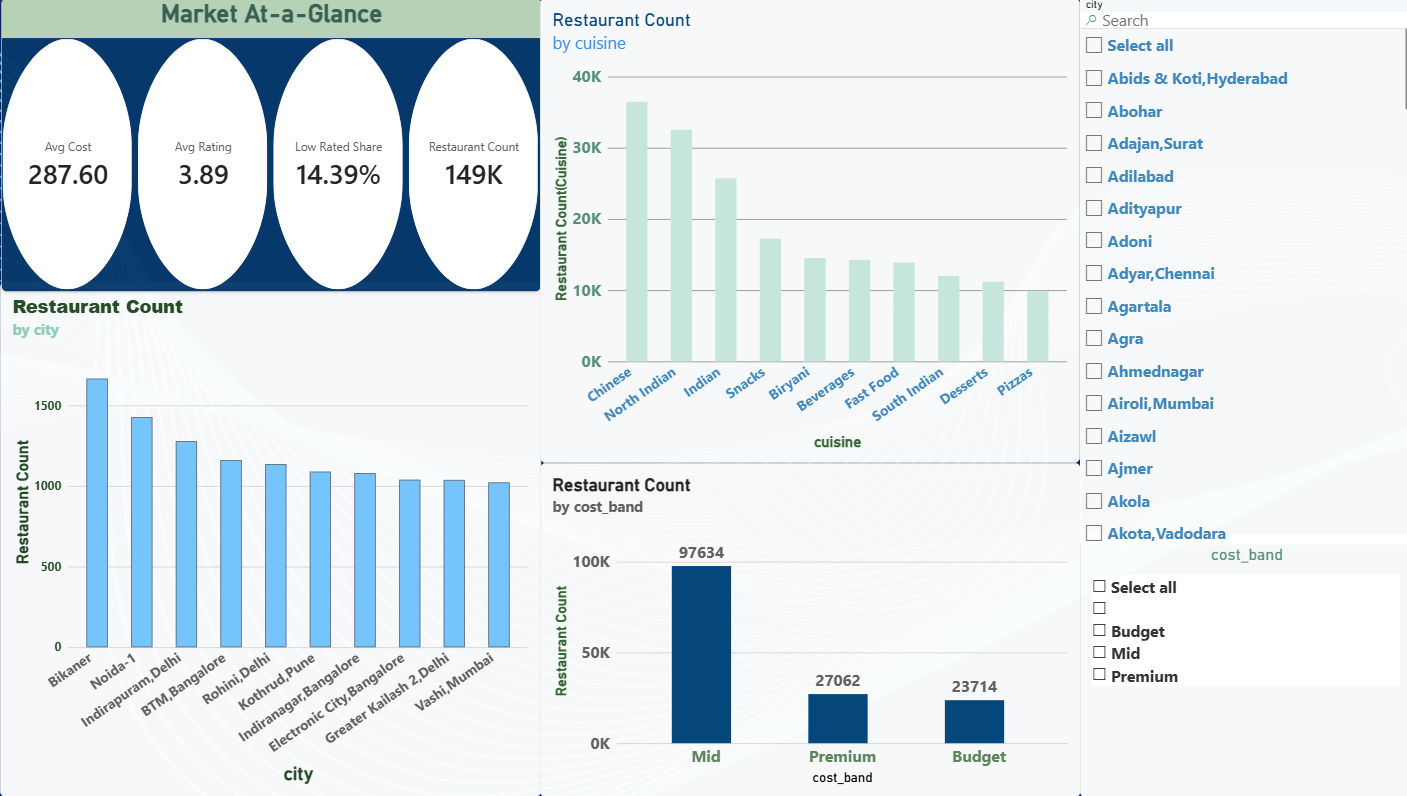

The dashboard page shown, as its layout file describes it:
{"tool":"powerbi","page":{"name":"Page 1","canvas":[1920,1080],"ordinal":0},"visuals":[{"type":"clusteredColumnChart","fields":{"Category":["swiggy_clean.city"],"Y":["swiggy_clean.Restaurant Count"]},"box":[0,383.8,732.1,696.6],"z":0},{"type":"cardVisual","title":"Market At-a-Glance","fields":{"Data":["swiggy_clean.Avg Cost","swiggy_clean.Avg Rating","swiggy_clean.LowRated Share","swiggy_clean.Restaurant Count"]},"box":[1.7,0,730.4,397.3],"z":1000},{"type":"clusteredColumnChart","title":"Restaurant Count","fields":{"Category":["swiggy_cuisine.cuisine"],"Y":["swiggy_cuisine.Restaurant Count(Cuisine)"]},"box":[730.4,0,730.4,628.9],"z":2000},{"type":"clusteredColumnChart","fields":{"Category":["swiggy_clean.cost_band"],"Y":["swiggy_clean.Restaurant Count"]},"box":[730.4,628.9,731,452],"z":3000},{"type":"listSlicer","fields":{"Values":["swiggy_clean.cost_band"]},"box":[1460.7,725.3,450,355.8],"z":4000},{"type":"slicer","fields":{"Values":["swiggy_clean.city"]},"box":[1460.7,0,449.7,738.8],"z":5000}]}

Visuals, with their boxes in screenshot pixels (x1, y1, x2, y2), scaled from the page's 1920x1080 canvas onto the 1407x796 screenshot:
clusteredColumnChart - swiggy_clean.city x swiggy_clean.Restaurant Count: [left=0, top=283, right=536, bottom=795]
"Market At-a-Glance" cardVisual: [left=1, top=0, right=536, bottom=293]
"Restaurant Count" clusteredColumnChart: [left=535, top=0, right=1070, bottom=464]
clusteredColumnChart - swiggy_clean.cost_band x swiggy_clean.Restaurant Count: [left=535, top=464, right=1071, bottom=795]
listSlicer - swiggy_clean.cost_band: [left=1070, top=535, right=1400, bottom=795]
slicer - swiggy_clean.city: [left=1070, top=0, right=1400, bottom=545]
